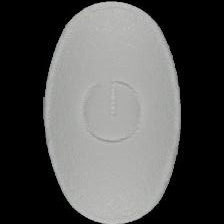0615-5501: (0, 0, 224, 224)
